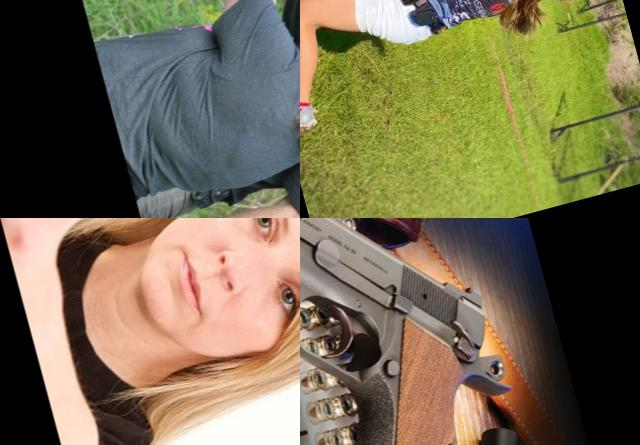handgun: (300, 218, 549, 445), (0, 218, 207, 293), (220, 0, 293, 32), (419, 0, 497, 26)
